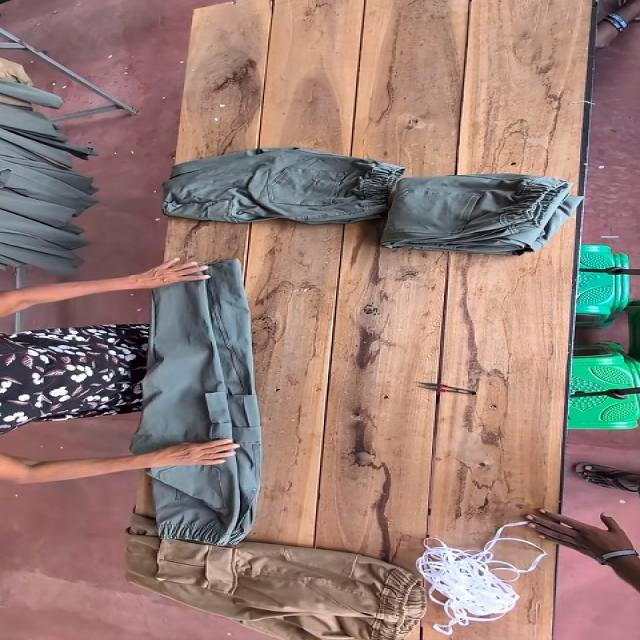new-garment: (131, 260, 260, 546)
